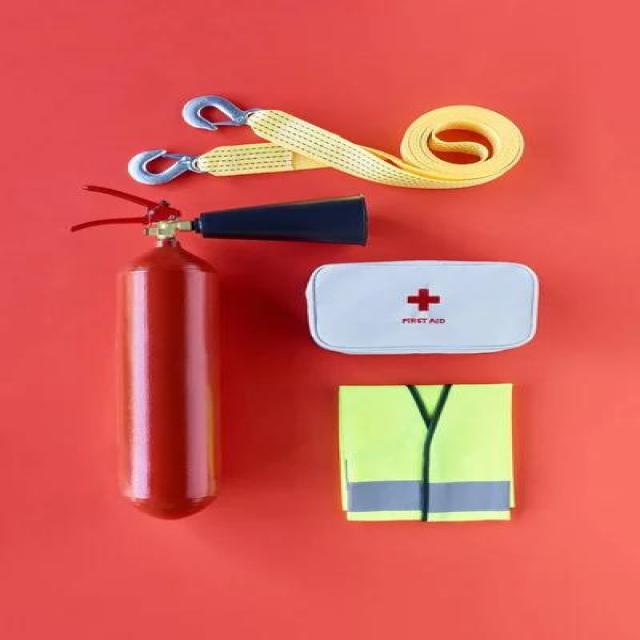fire_extinguisher: (63, 180, 375, 522)
